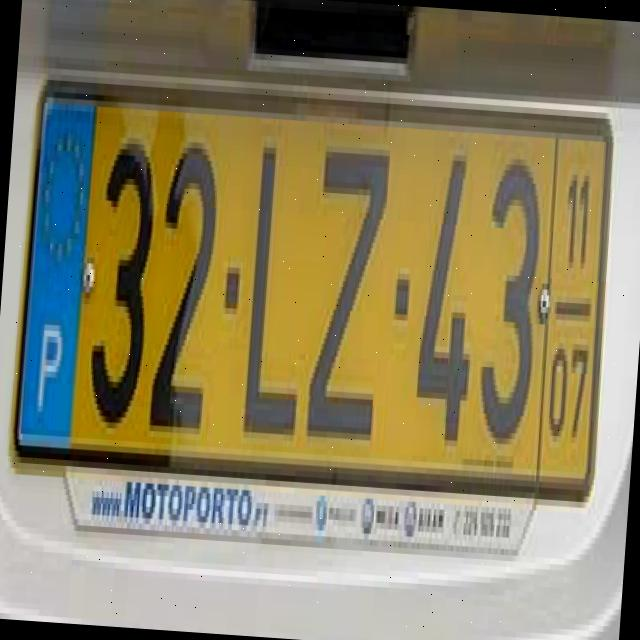EU: (12, 81, 609, 497)
Portugal: (15, 86, 97, 450)
